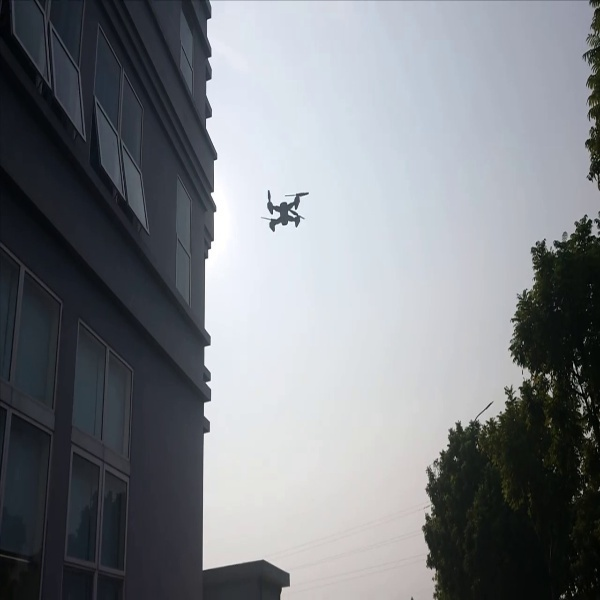drone: (254, 179, 310, 241)
